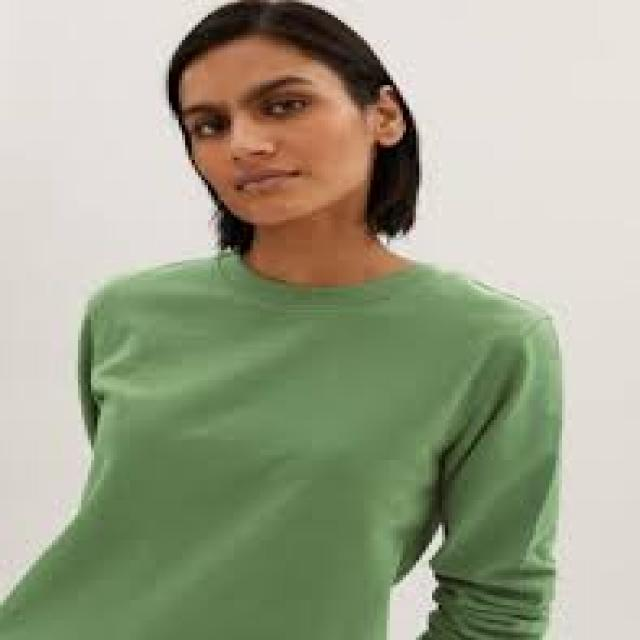plain: (26, 224, 570, 634)
